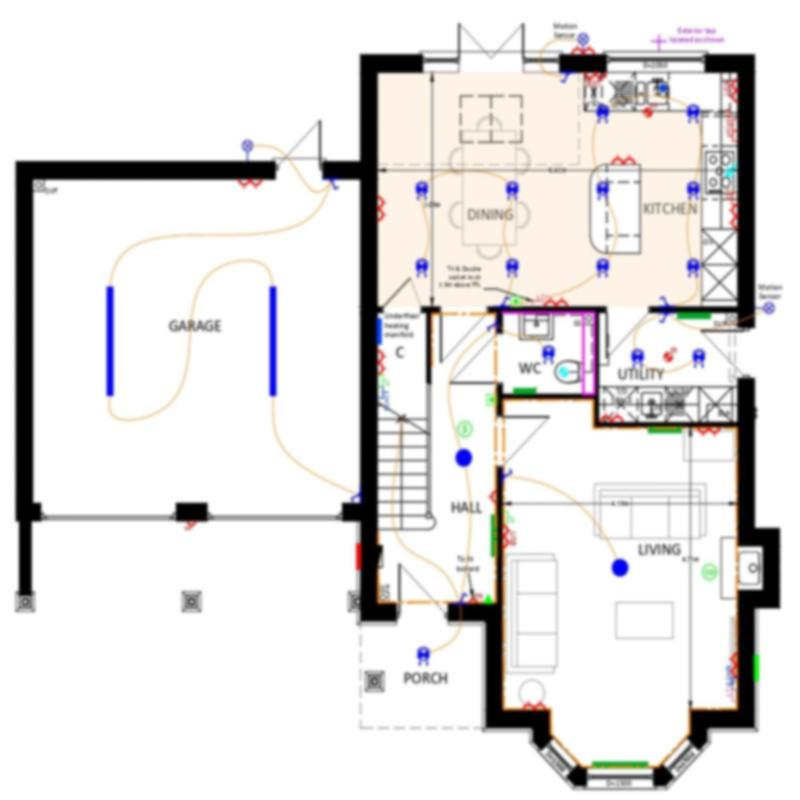BT Entry Point: (483, 593, 493, 604)
Cat 6 Data Socket: (725, 665, 738, 689), (377, 386, 390, 410)
Ceiling Mounted Continuous Extract FanWith Boost Mode Activated By Light Switch: (559, 367, 568, 377)
Ceiling Mounted Continuous Extract FanWith Local Boost Switch: (643, 103, 657, 117), (664, 347, 677, 362)
Co-Ax TV Socket: (533, 294, 548, 307), (726, 685, 737, 702)
Double Socket: (611, 154, 636, 165), (697, 426, 721, 437), (238, 179, 262, 190), (377, 195, 387, 221), (377, 349, 387, 375), (728, 653, 738, 677), (599, 413, 624, 422), (572, 45, 594, 55), (523, 701, 546, 710), (545, 297, 568, 306), (728, 205, 737, 228)
Electric Meter Box: (356, 543, 361, 570)
External Wall Light: (578, 33, 589, 55), (755, 302, 775, 314), (242, 140, 253, 161)
Fused spur: (470, 593, 483, 603)
Gas Meter Box: (754, 655, 759, 681)
Grid Switch: (726, 111, 738, 130)
Hob Switch: (726, 127, 737, 142)
Light Switch: (502, 469, 513, 480), (457, 593, 469, 603), (659, 296, 670, 306), (658, 313, 669, 323), (499, 296, 510, 306), (329, 180, 339, 190), (560, 73, 570, 83), (351, 492, 360, 503), (487, 322, 496, 332)
Low Energy Downlighter: (415, 181, 429, 201), (506, 258, 519, 278), (687, 181, 700, 201), (687, 258, 700, 278), (506, 181, 519, 200), (596, 181, 609, 200), (596, 259, 609, 278), (687, 104, 700, 123), (542, 345, 555, 364), (631, 349, 644, 368), (692, 349, 705, 368), (417, 647, 430, 666), (416, 258, 428, 278), (596, 105, 609, 123)
Low Energy Pendant Light: (456, 449, 472, 467), (612, 559, 628, 577)
Mains Wired Smoke Detector: (457, 421, 472, 437)
Outside Socket: (726, 189, 737, 204), (184, 521, 197, 531)
Outside Tap: (651, 34, 667, 51)
Programmable Room Thermostat: (511, 295, 522, 306), (486, 394, 496, 406)
Radiator: (592, 762, 648, 768), (677, 312, 711, 319), (490, 515, 495, 556), (648, 427, 682, 433), (513, 388, 536, 394)
Recirculating Extractor Fan: (724, 163, 737, 177)
Single Socket: (487, 491, 497, 503)
Telephone Socket: (377, 374, 389, 386)
Twin LED Strip Light: (106, 286, 114, 396), (270, 286, 277, 396)
USB Double Socket: (502, 525, 517, 548), (723, 79, 737, 103), (585, 72, 606, 87)
Underfloor Heating Manifold: (376, 318, 382, 345)
Water Entry Position: (660, 85, 666, 91)
